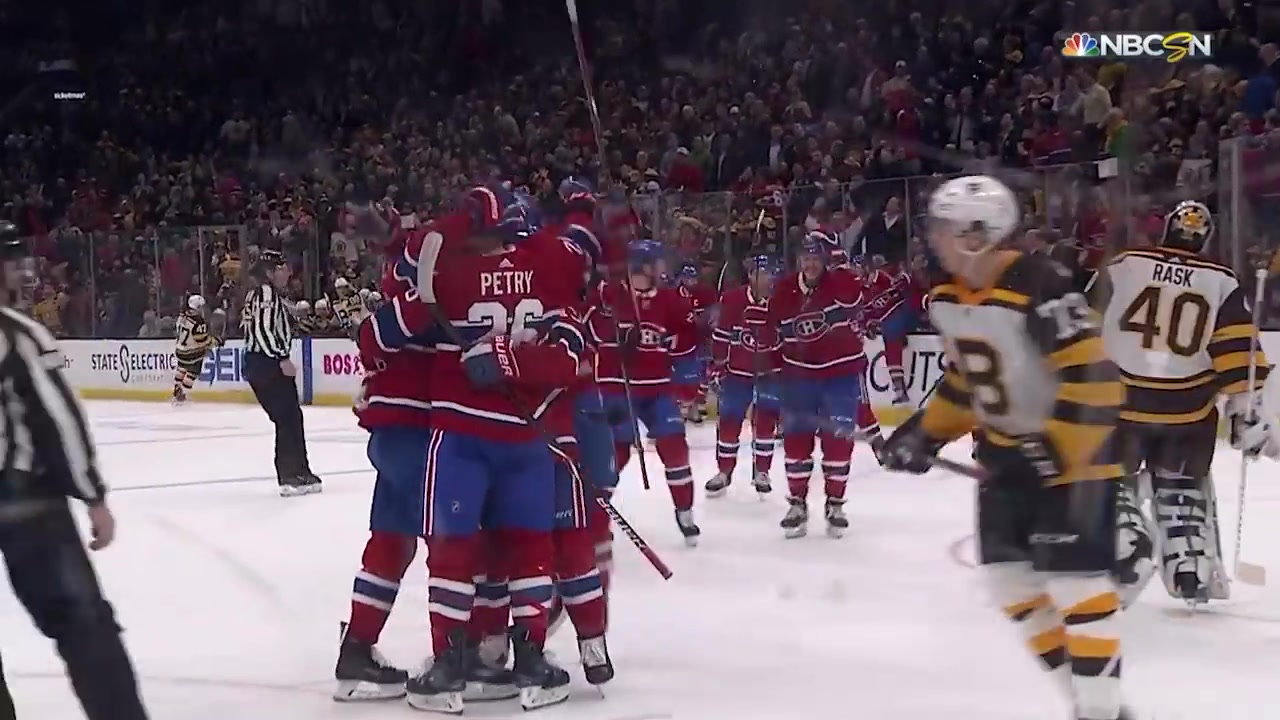Geico: (193, 342, 246, 388)
